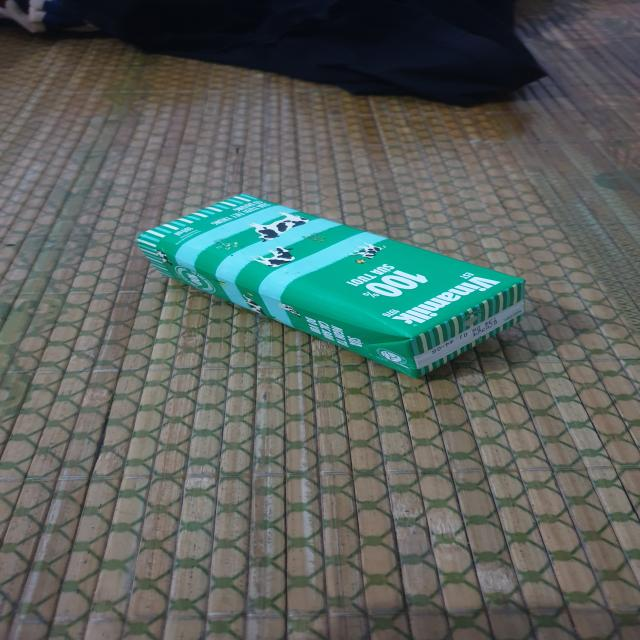Vina: (124, 185, 539, 388)
